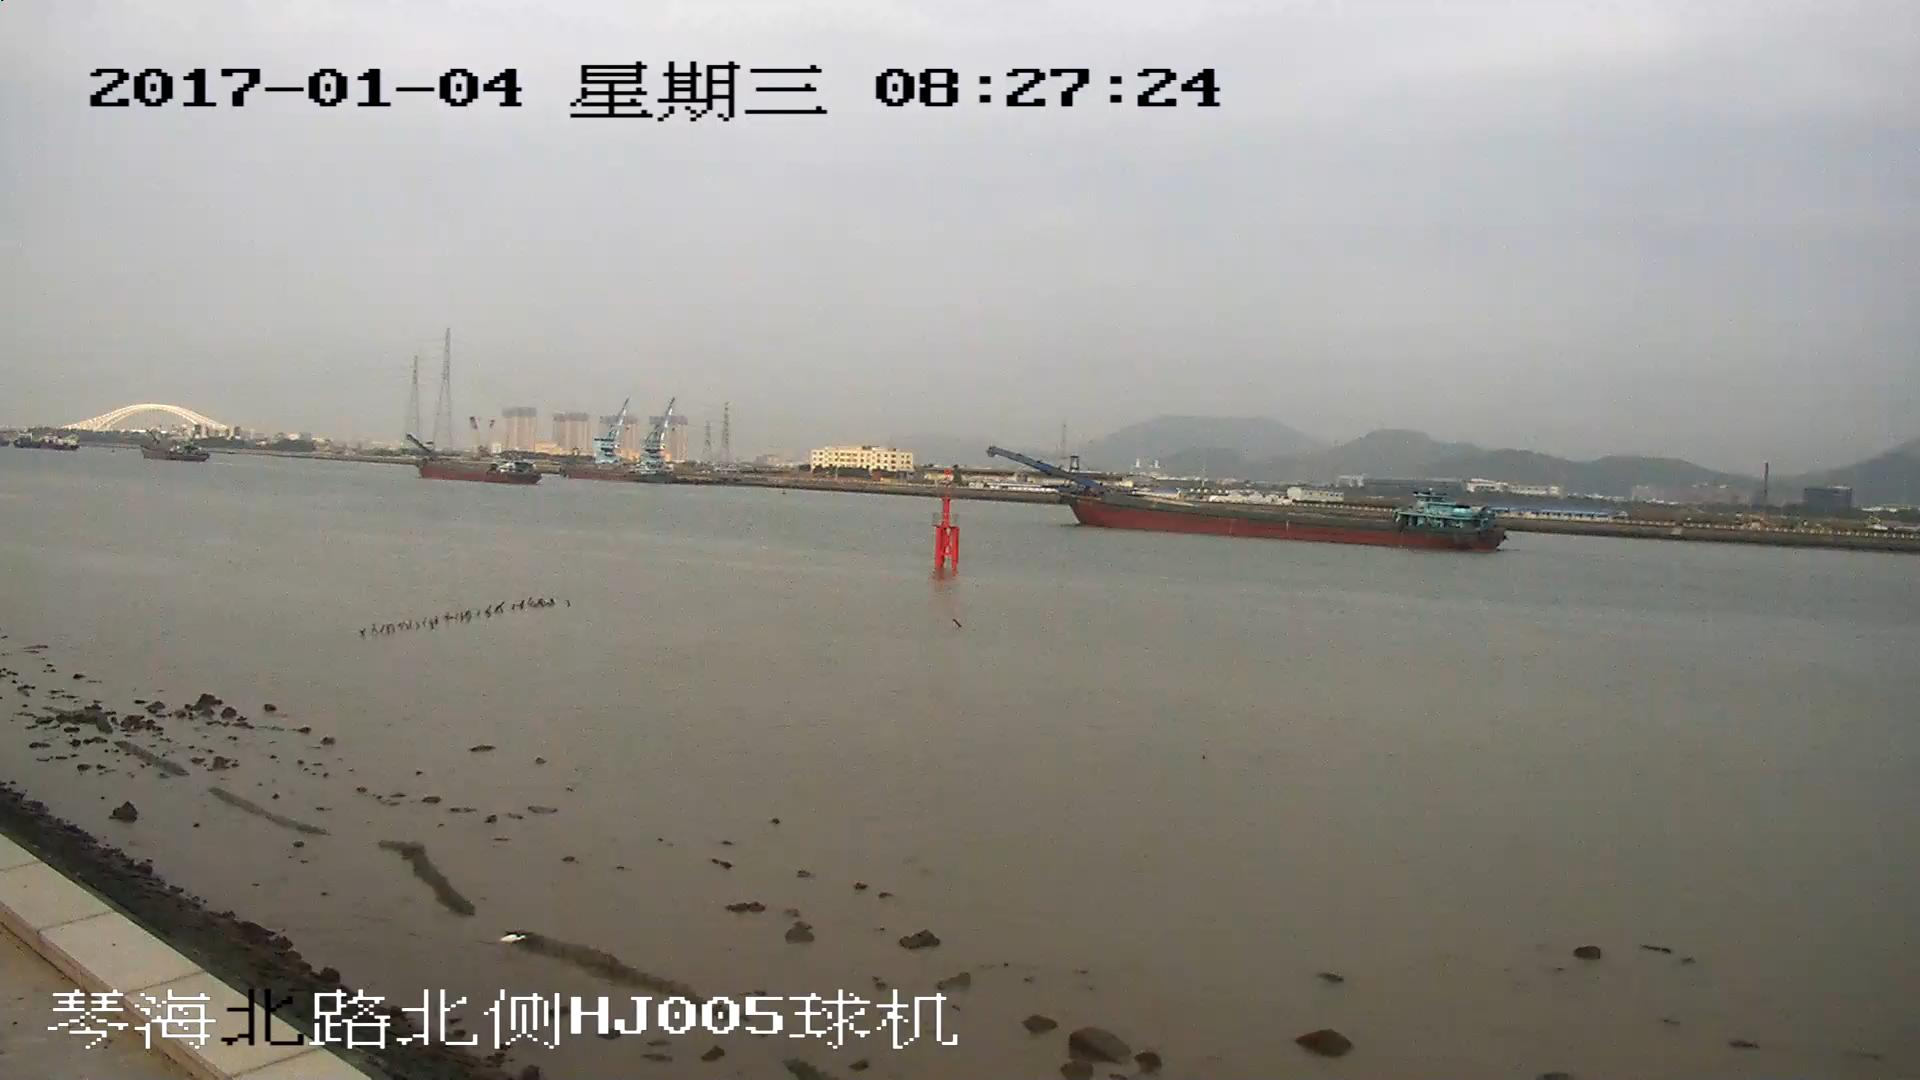bulk cargo carrier: (991, 448, 1507, 550), (406, 432, 537, 482)
